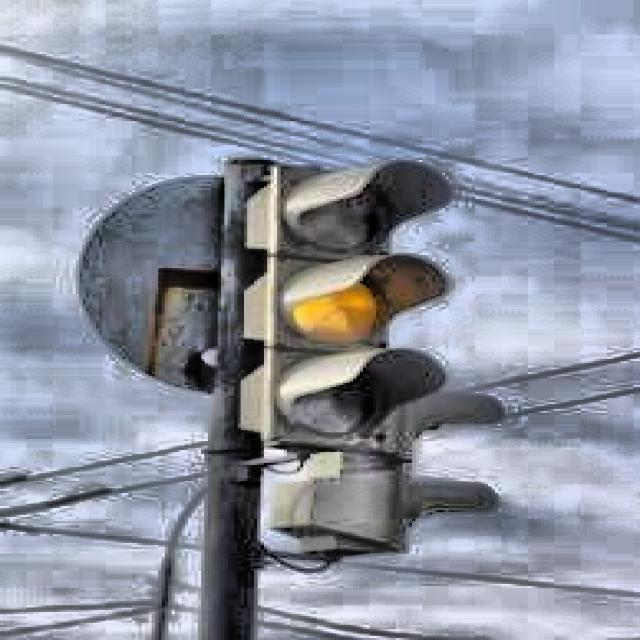yellow: (274, 166, 420, 434)
